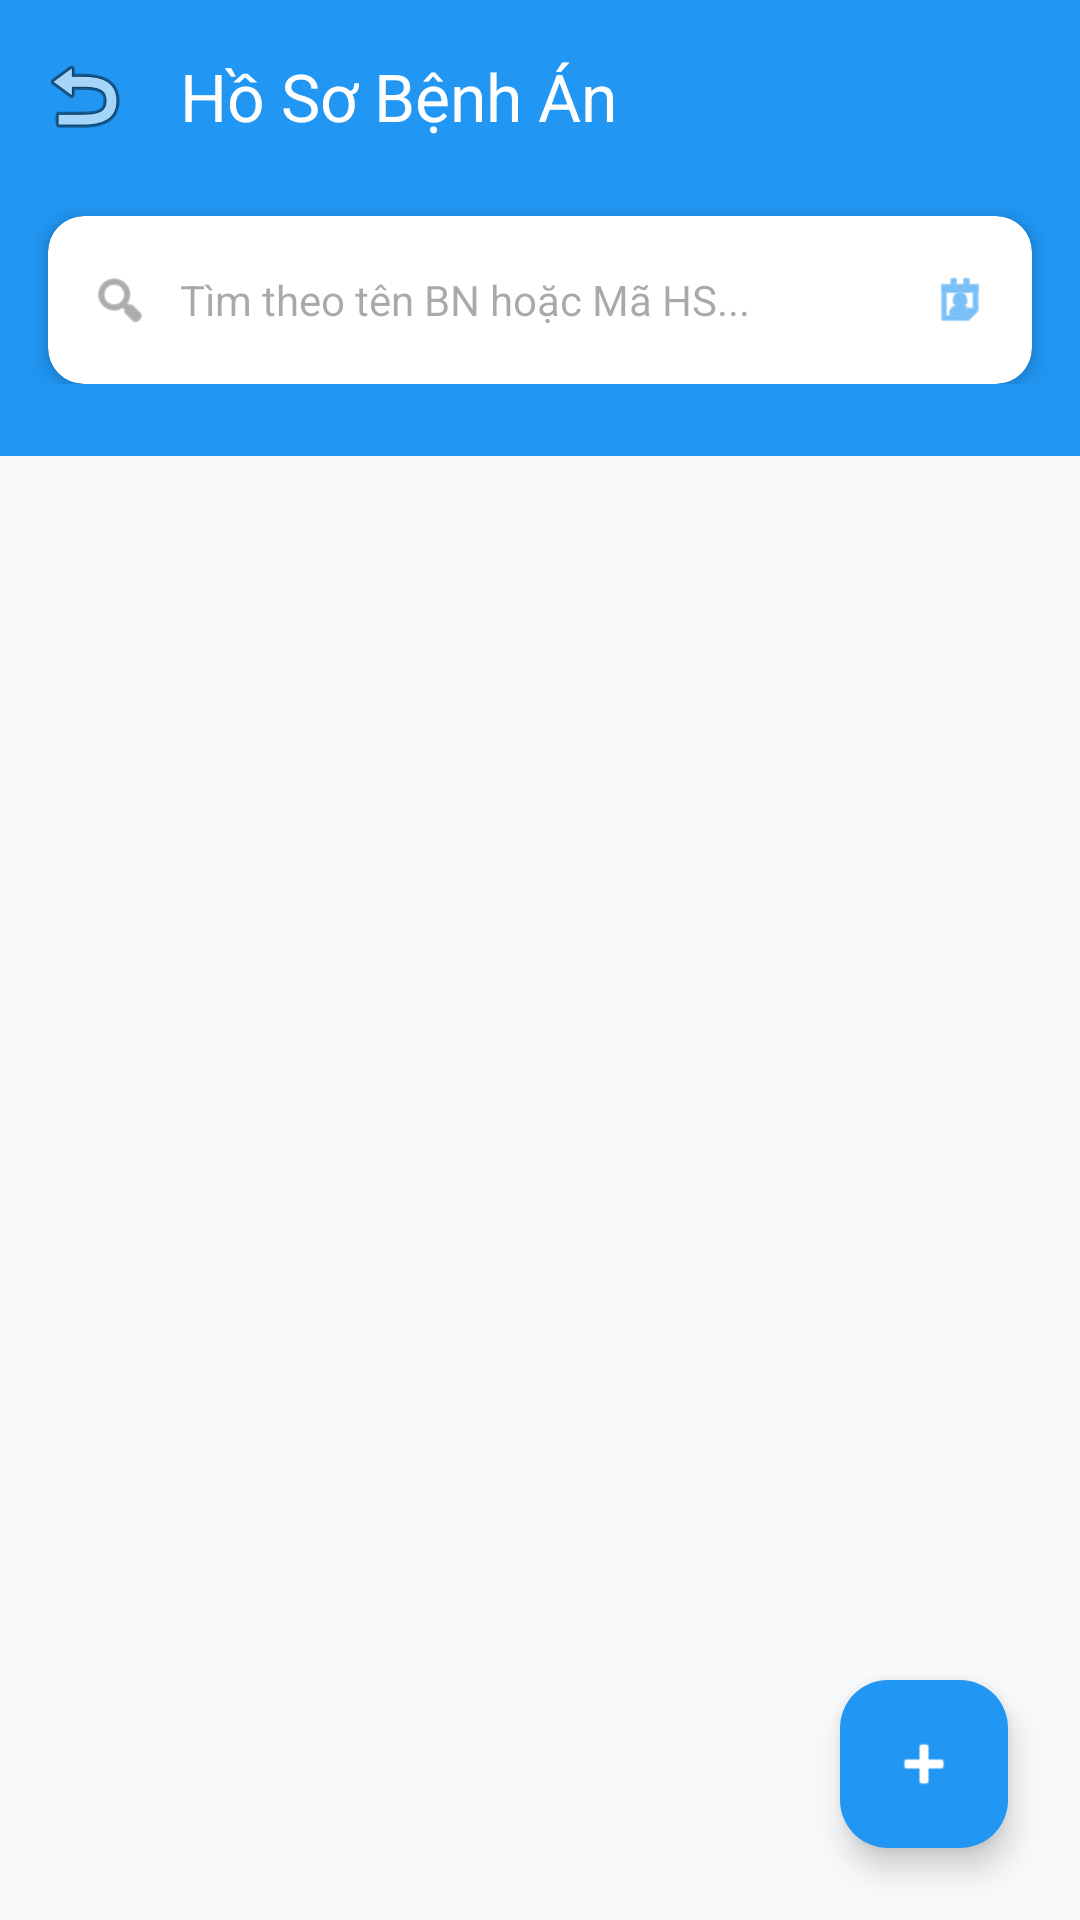

Point at icon controls on the screen. Image size 1080x1920, points as (x=x, y=y).
add: (x=924, y=1764)
calendar: (x=960, y=299)
search: (x=120, y=300)
